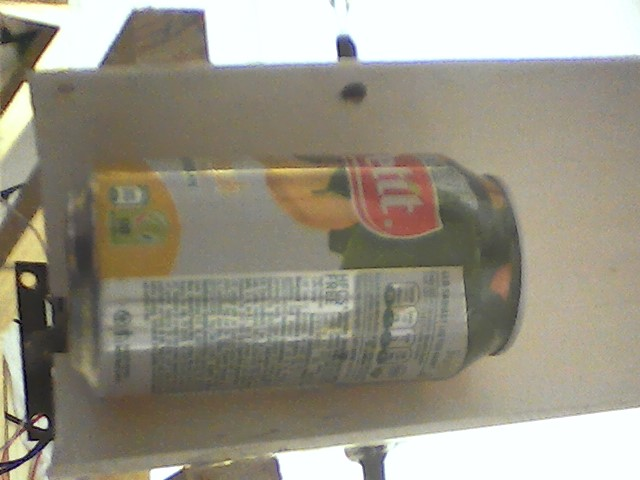lata: (53, 145, 532, 405)
